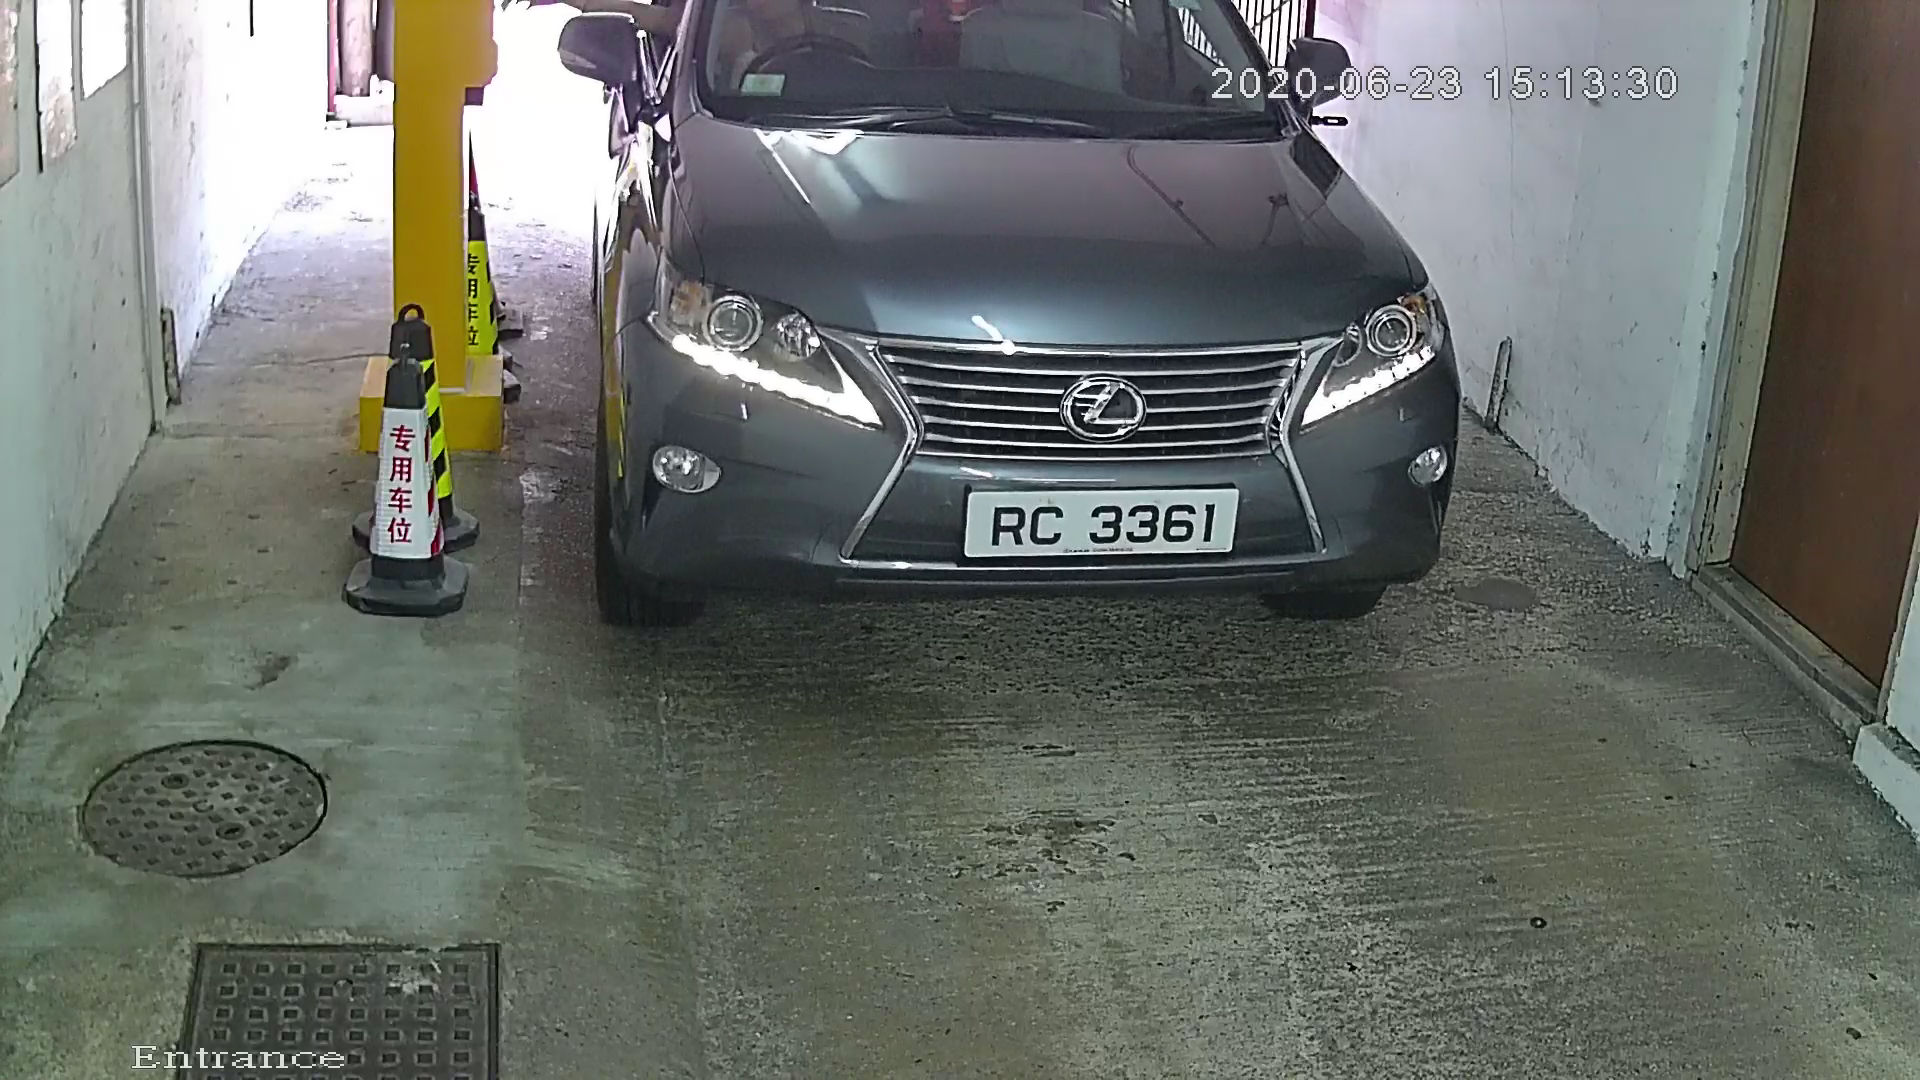privatecar: (550, 3, 1466, 676)
